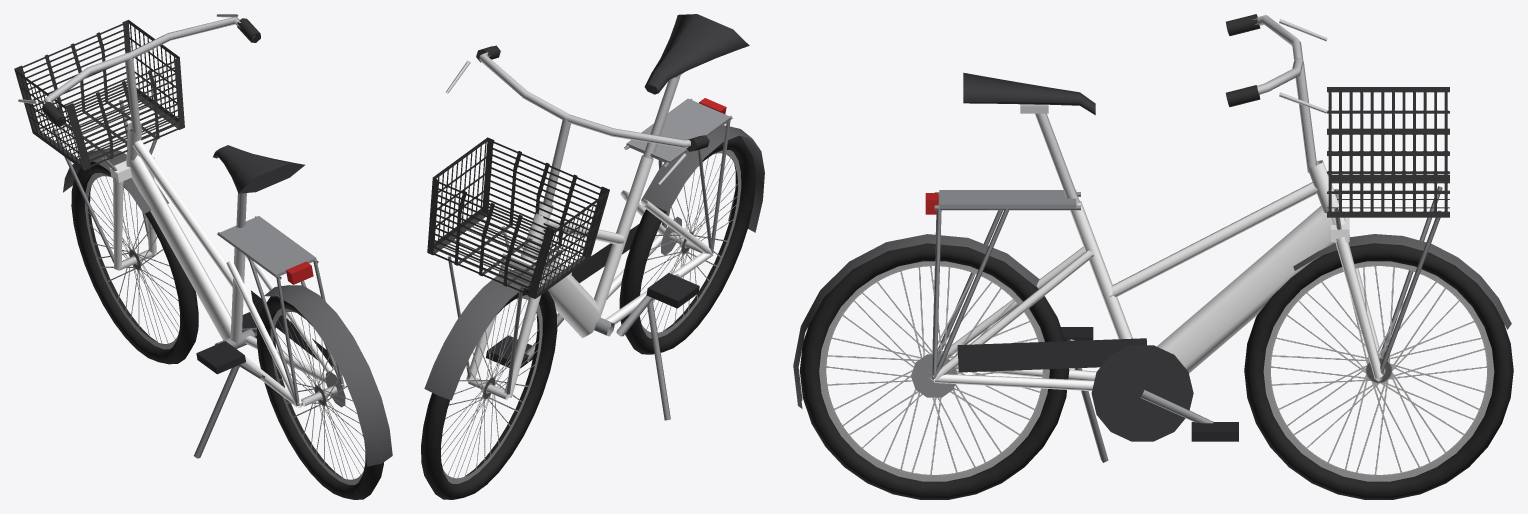
File: rental_lean.glb
The picture shows the model from 3 angles, left to right: view 1: azimuth 30°, elevation 25°; view 2: azimuth 150°, elevation 25°; view 3: azimuth 270°, elevation 25°; orthographic projection. The views are drawn at different scales.
Visible parts, largest first — view 1: bike; view 2: bike; view 3: bike.
Part boxes in pixels (left/top/right/bottom): bike: left=14, top=14, right=392, bottom=499; bike: left=421, top=14, right=764, bottom=499; bike: left=793, top=14, right=1513, bottom=499.
Size of the model in its own units: 0.6051 by 1.03 by 1.52.
Materials: 1 (1 with a texture image).
